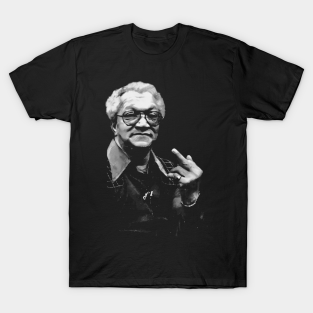design: (103, 78, 207, 239)
